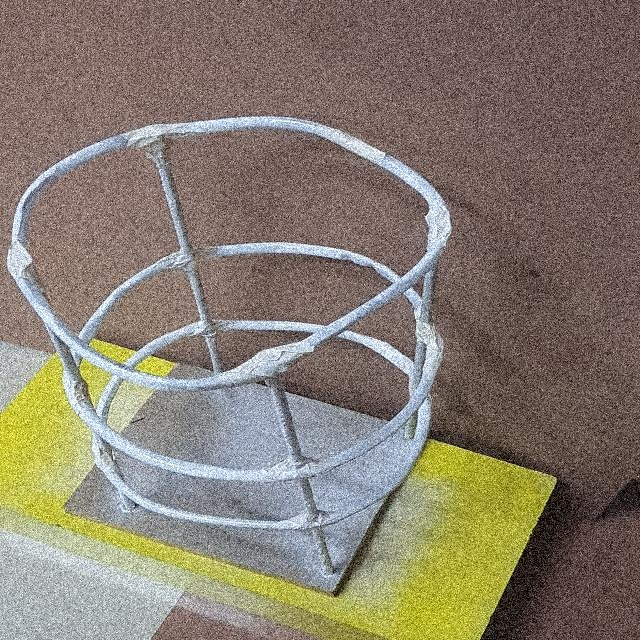silo: (4, 117, 451, 592)
